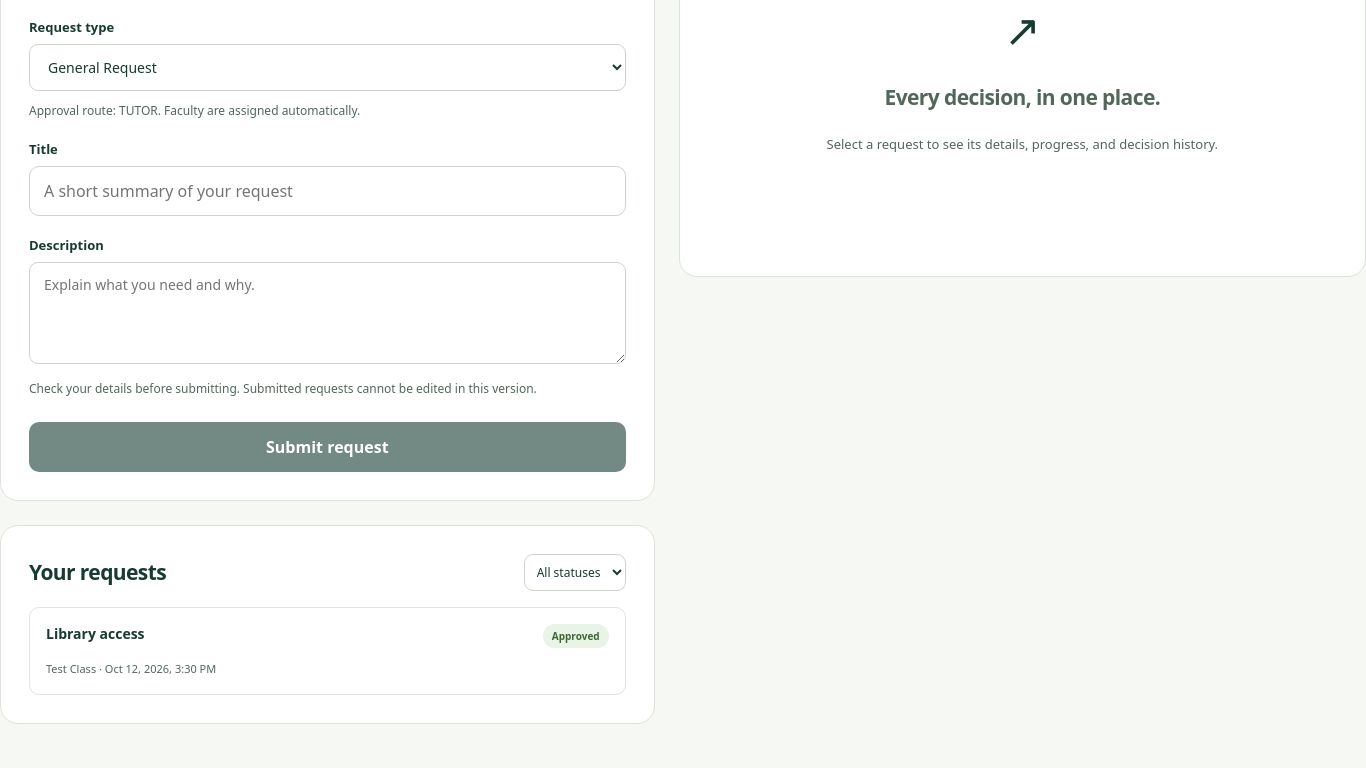
Test case: small request workspace › orders tied submission, reassignment, and final decision history correctly
(page scrolled)
Click the button "Library access Approved Test Class · Oct 12, 2026, 3:30 PM": (95, 634) x1=29 y1=607 x2=626 y2=695
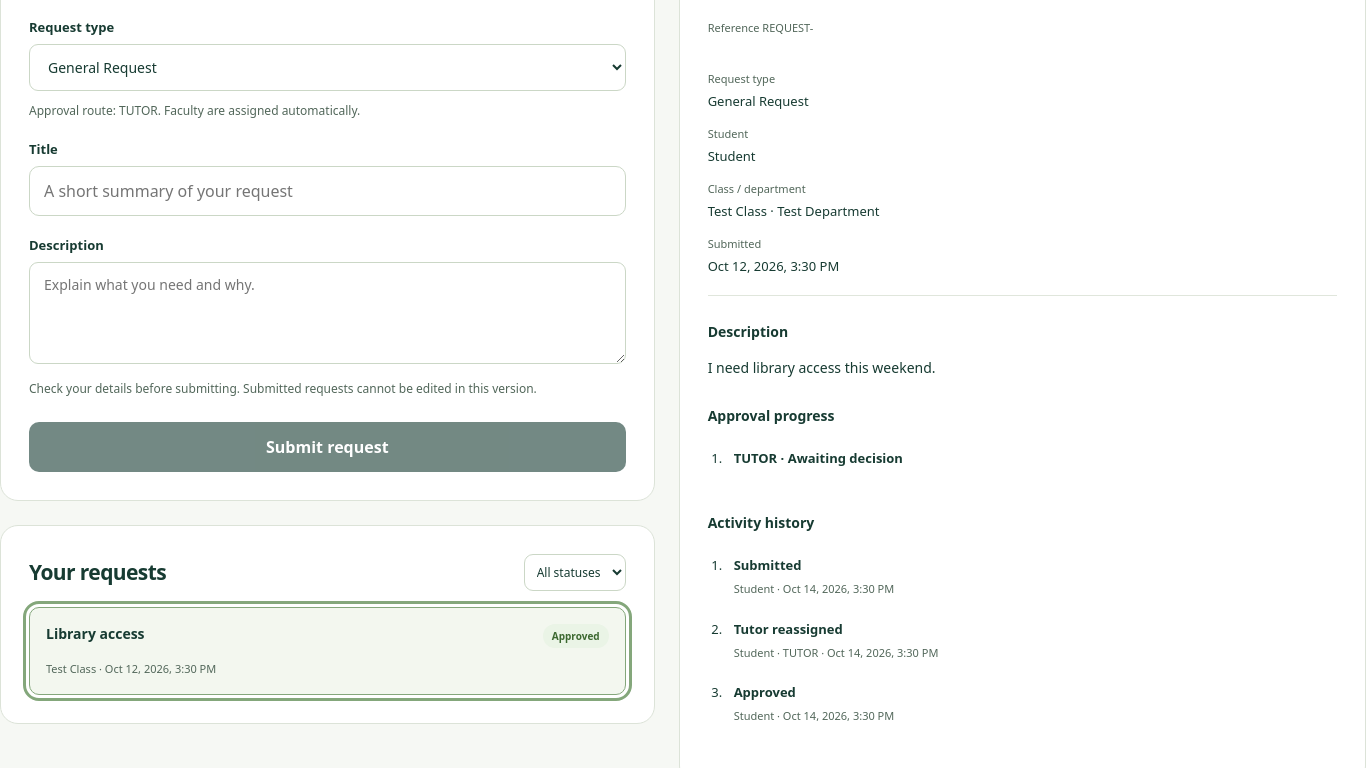
Expected: the list item "Submitted Student · Oct 14, 2026, 3:30 PM" is shown, x1=734 y1=556 x2=894 y2=596
Expected: the list item "Tutor reassigned Student · TUTOR · Oct 14, 2026, 3:30 PM" is shown, x1=734 y1=620 x2=938 y2=660
Expected: the list item "Approved Student · Oct 14, 2026, 3:30 PM" is shown, x1=734 y1=683 x2=894 y2=723
